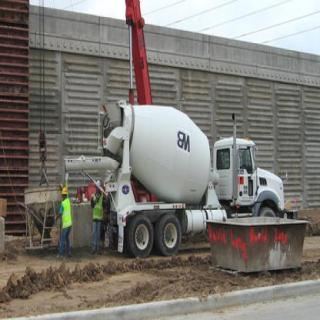Normal_vehicle: (95, 90, 289, 268)
